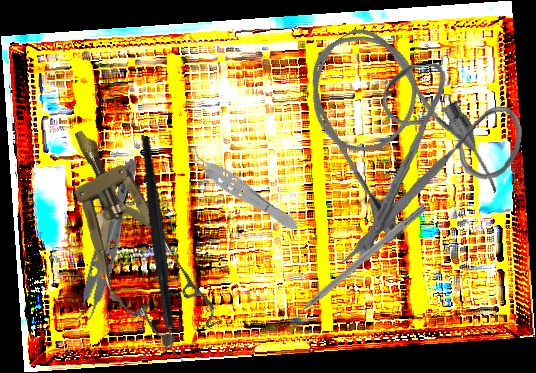Cannula: (281, 2, 510, 256)
Chopper: (93, 134, 236, 365)
Iris Scissors: (329, 59, 529, 274)
Pusher: (278, 202, 428, 330)
Speculum: (36, 110, 227, 362)
Tissue Forceps: (67, 154, 142, 331), (179, 140, 305, 238)
